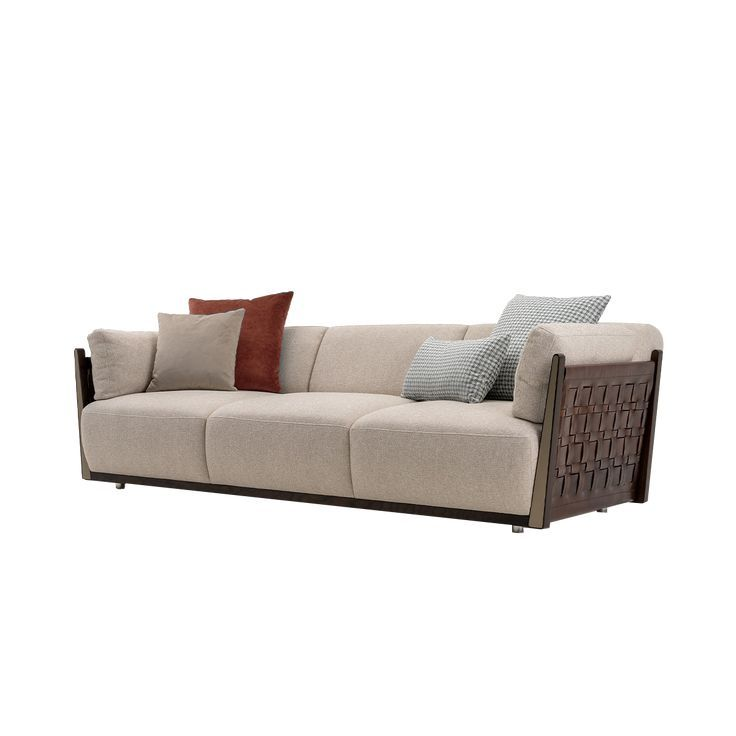3seatersofa: (75, 292, 661, 532)
backrest: (281, 326, 494, 395)
base: (92, 473, 527, 525)
leftarmrest: (513, 323, 661, 527)
leg: (512, 525, 523, 532), (116, 483, 124, 488)
pillow: (402, 295, 609, 402), (147, 292, 292, 389)
rightarmrest: (74, 330, 156, 479)
seat: (83, 393, 540, 514)
